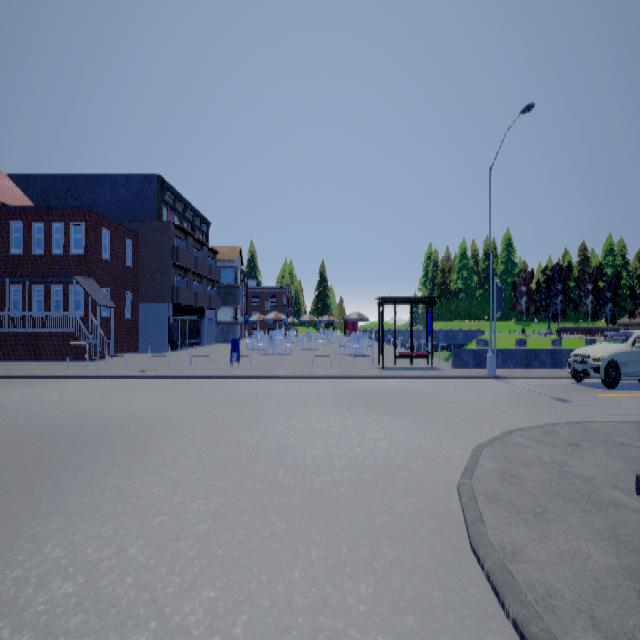vehicle: (566, 328, 639, 388)
